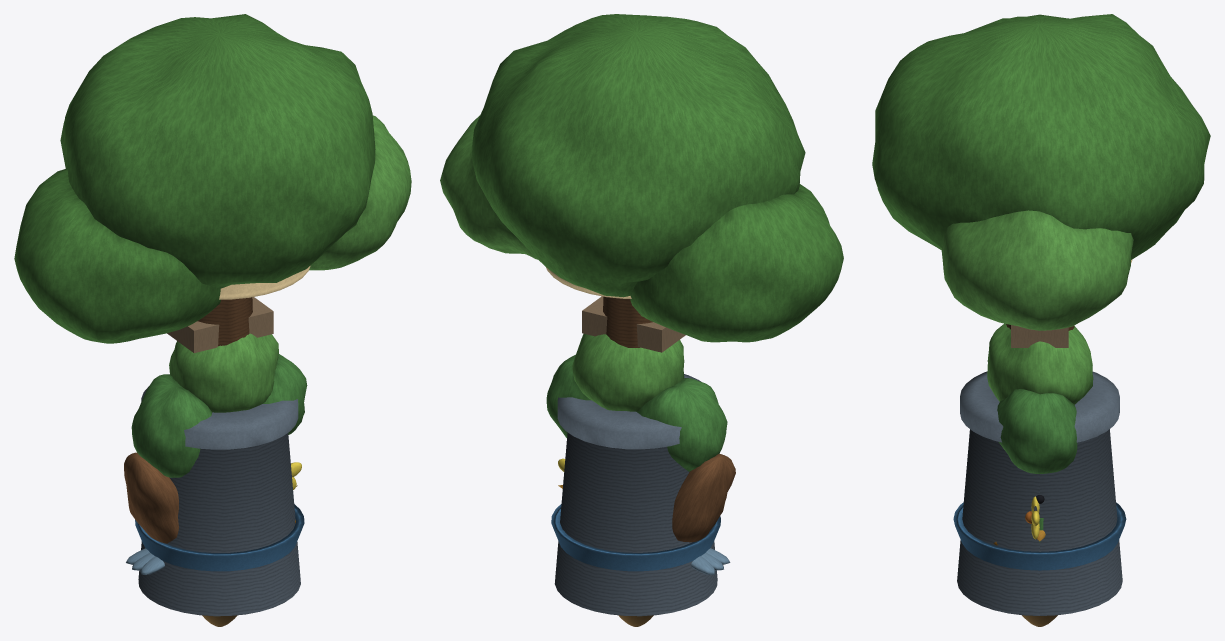
The model's file is props.glb.
The picture shows the model from 3 angles, left to right: view 1: azimuth 30°, elevation 25°; view 2: azimuth 150°, elevation 25°; view 3: azimuth 270°, elevation 25°; orthographic projection.
Parts seen in each view (by area): view 1: tree, bin, plant, squirrel, bowl, post, lamp, bird; view 2: tree, bin, plant, squirrel, bowl, post, bird; view 3: tree, bin, plant, bowl, post.
Part boxes in pixels (left/top/right/bottom): tree: left=14, top=14, right=411, bottom=346; bin: left=138, top=386, right=300, bottom=616; plant: left=131, top=333, right=307, bottom=477; squirrel: left=124, top=452, right=178, bottom=543; bowl: left=135, top=504, right=304, bottom=571; post: left=167, top=297, right=273, bottom=353; lamp: left=219, top=265, right=310, bottom=299; bird: left=126, top=485, right=297, bottom=574; tree: left=440, top=14, right=843, bottom=347; bin: left=554, top=374, right=717, bottom=616; plant: left=546, top=334, right=727, bottom=471; squirrel: left=672, top=453, right=735, bottom=542; bowl: left=551, top=504, right=720, bottom=571; post: left=582, top=296, right=685, bottom=352; bird: left=558, top=485, right=730, bottom=574; tree: left=872, top=14, right=1210, bottom=330; bin: left=957, top=371, right=1122, bottom=615; plant: left=987, top=323, right=1093, bottom=473; bowl: left=953, top=502, right=1126, bottom=570; post: left=1011, top=325, right=1068, bottom=347.
Bounding box in the file's own units: 1.22 × 1.84 × 0.94.
30 materials, 29 textured.
